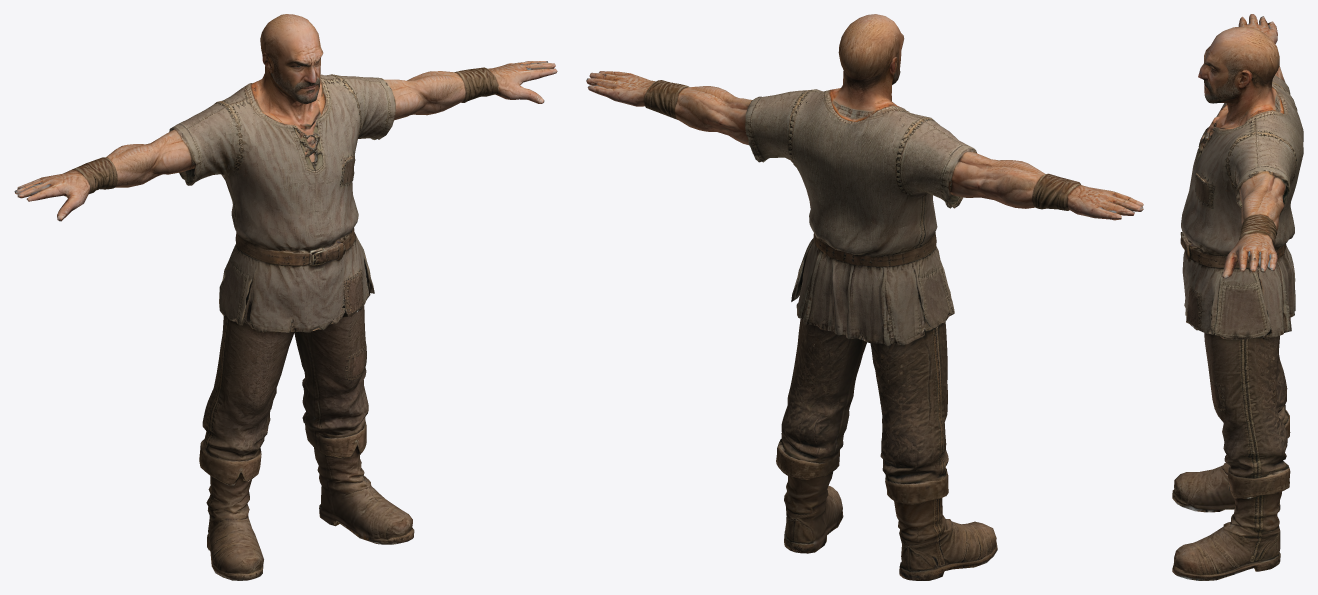
The picture shows the model from 3 angles, left to right: view 1: azimuth 30°, elevation 25°; view 2: azimuth 150°, elevation 25°; view 3: azimuth 270°, elevation 25°; orthographic projection. The views are drawn at different scales.
Visible parts, largest first — view 1: texture_mapping; view 2: texture_mapping; view 3: texture_mapping.
Part boxes in pixels (box(x1,y1,x2,y2)): texture_mapping: box(14, 14, 557, 580); texture_mapping: box(586, 14, 1143, 580); texture_mapping: box(1172, 14, 1303, 580).
Size of the model in its own units: 1 by 0.9286 by 0.2184.
1 material, 1 textured.
